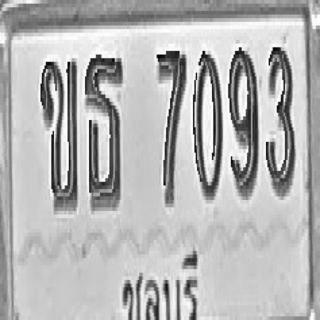A02: (40, 58, 78, 211)
A24: (84, 51, 124, 211)
N00: (192, 47, 222, 200)
N03: (265, 44, 295, 196)
N07: (157, 47, 186, 207)
N09: (228, 45, 258, 198)
P13: (119, 244, 200, 320)
